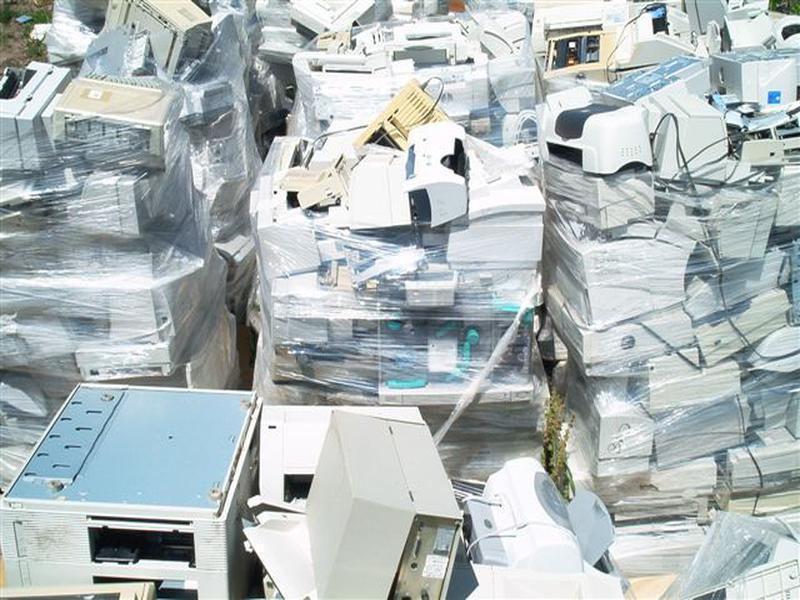printer: (4, 371, 261, 600), (456, 454, 587, 600), (242, 125, 358, 230), (393, 120, 476, 233), (703, 40, 800, 113)
